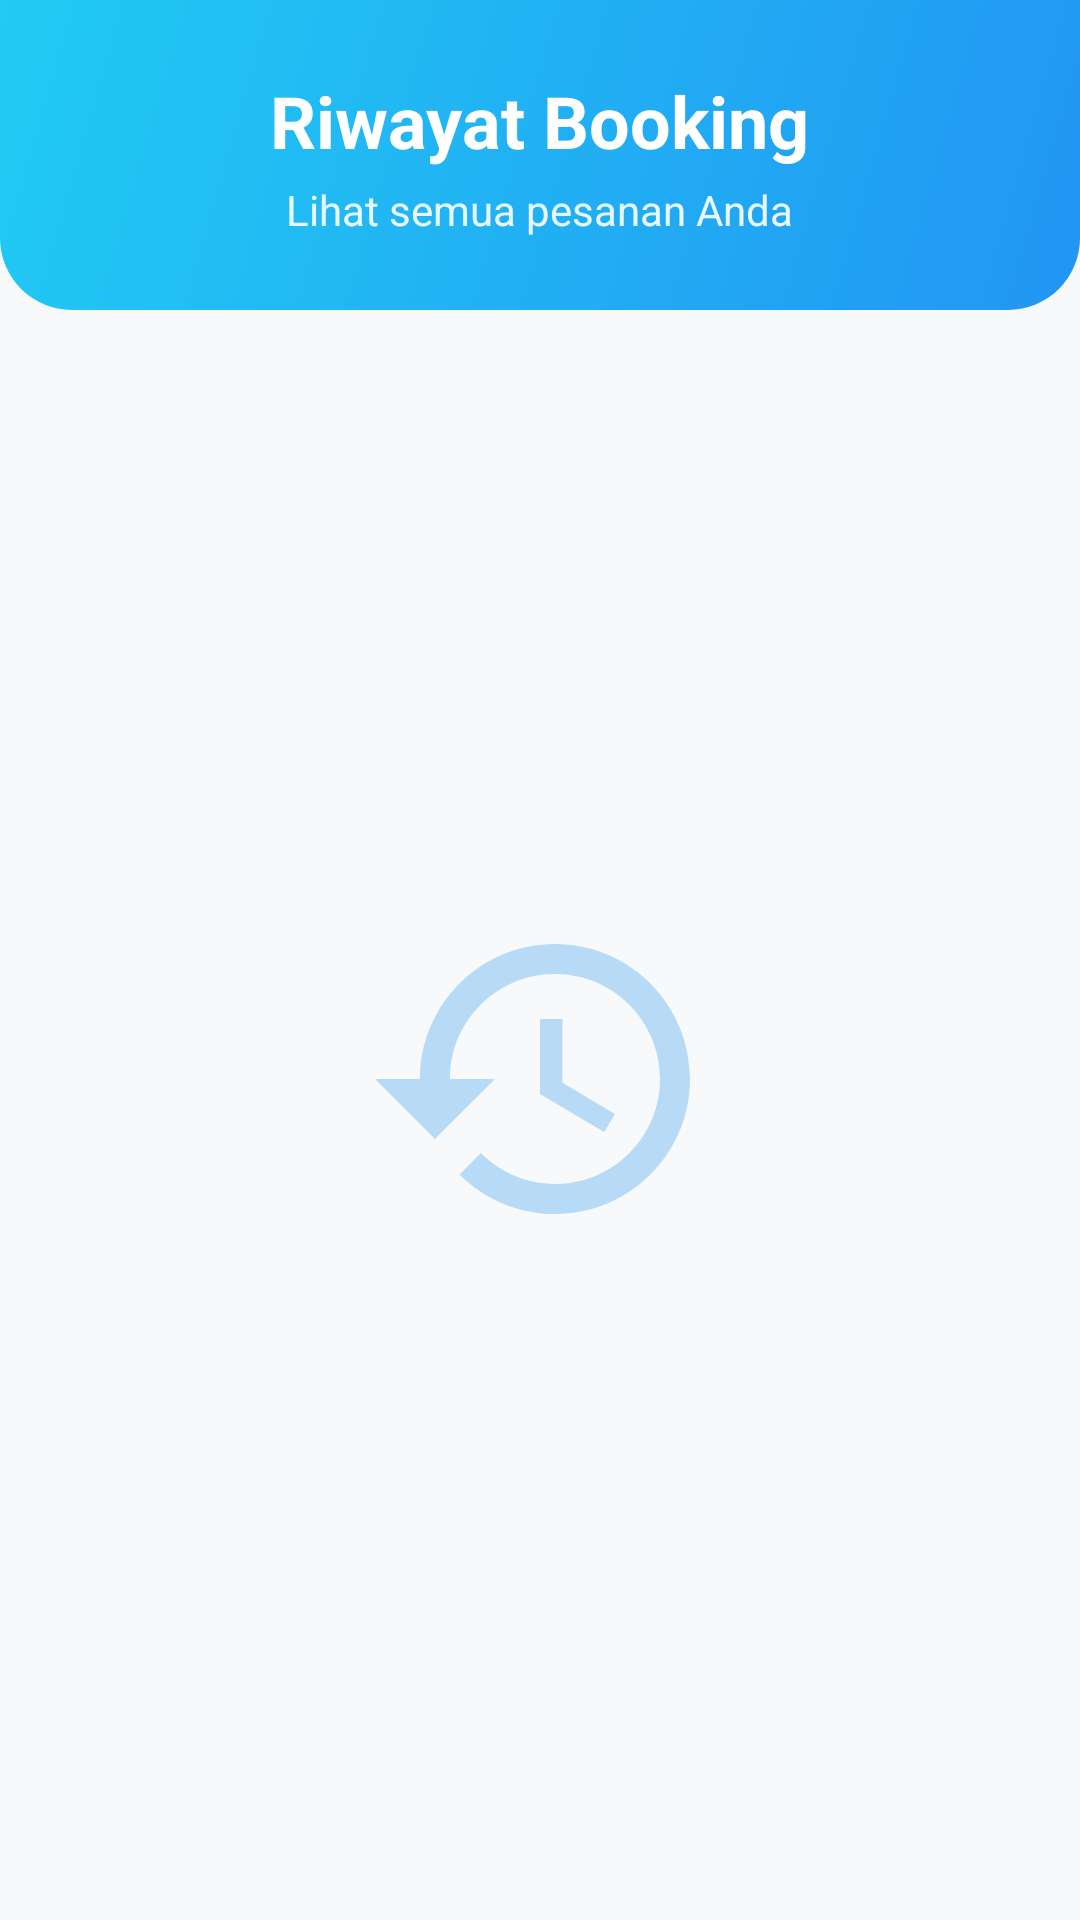

Named icons in this screenshot (1080×1920) and their bounding boxes, (left=x1, top=y1, right=x2, bottom=y2):
history: (left=375, top=944, right=690, bottom=1214)
